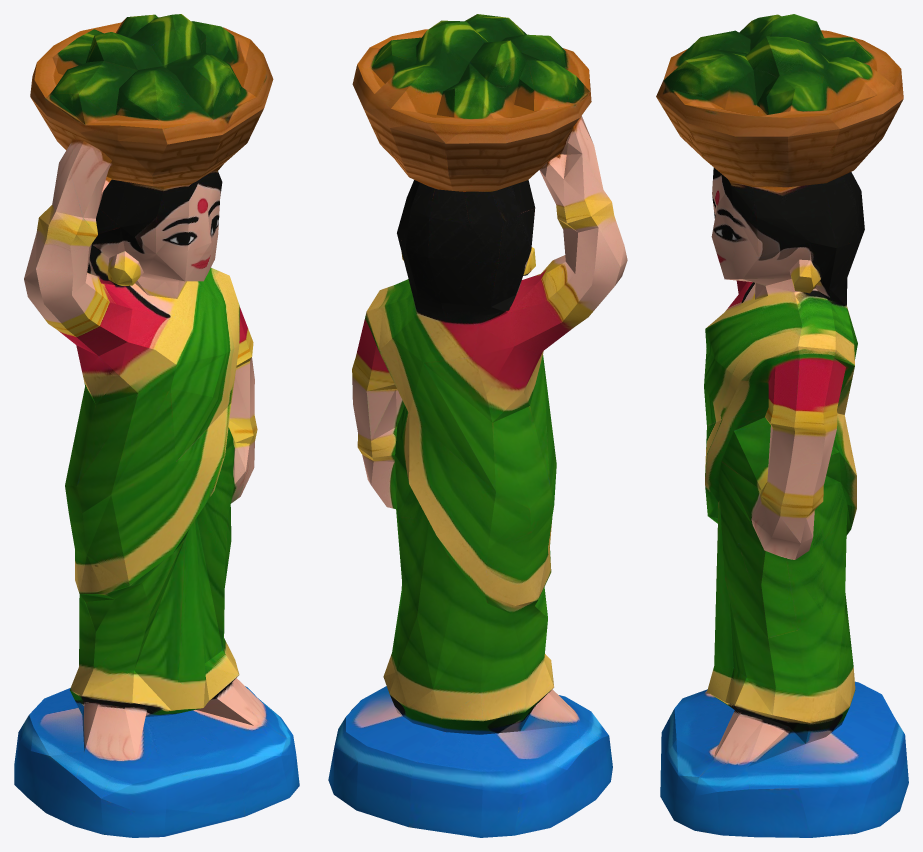
Rendered from woman_harvest_basket.glb.
The picture shows the model from 3 angles, left to right: view 1: azimuth 30°, elevation 25°; view 2: azimuth 150°, elevation 25°; view 3: azimuth 270°, elevation 25°; orthographic projection.
Parts seen in each view (by area): view 1: mesh_000; view 2: mesh_000; view 3: mesh_000.
Part boxes in pixels (<box>): mesh_000: <box>14,14,299,837</box>; mesh_000: <box>328,14,627,837</box>; mesh_000: <box>656,14,908,837</box>.
Bounding box in the file's own units: 0.3389 × 0.9531 × 0.2886.
Materials: 1 (1 with a texture image).
